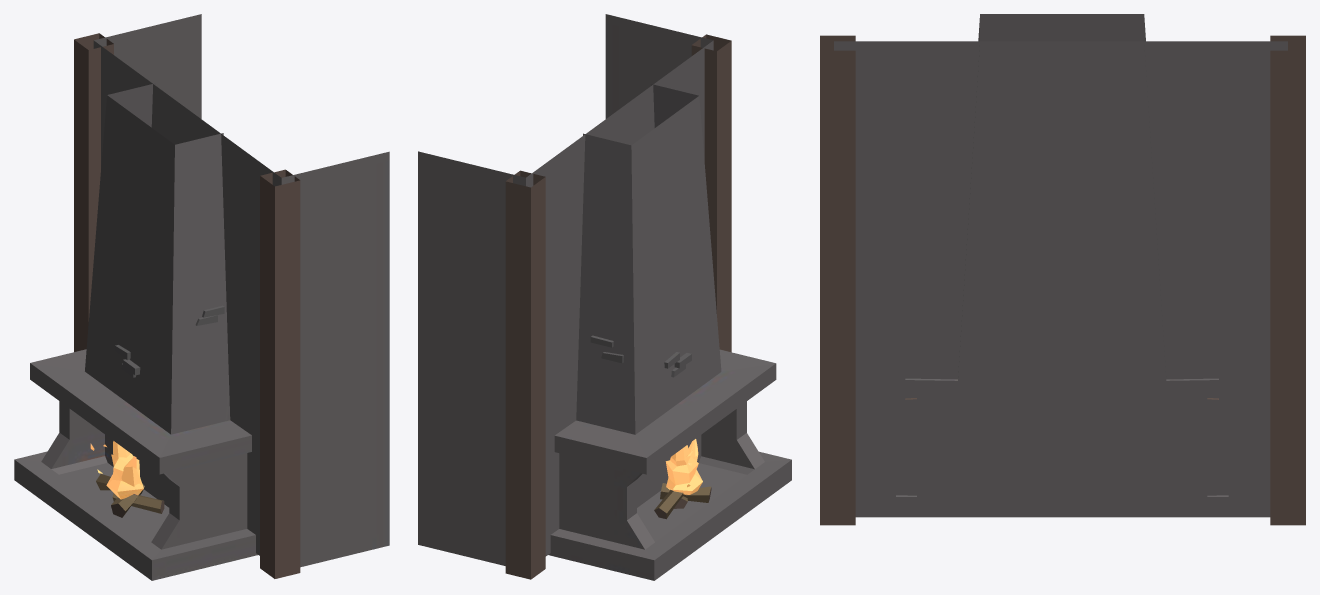
The model's file is fireplace.glb.
3 renders of one model, left to right at view 1: azimuth 30°, elevation 25°; view 2: azimuth 150°, elevation 25°; view 3: azimuth 270°, elevation 25°, orthographic. The views are drawn at different scales.
Parts seen in each view (by area): view 1: fireplace; view 2: fireplace; view 3: fireplace.
Boxes of the visible parts, x1,y1,x2,y2 form: fireplace: (14, 14, 389, 580); fireplace: (418, 14, 791, 580); fireplace: (820, 14, 1305, 525).
Size of the model in its own units: 1.12 by 2 by 1.84.
1 material, 1 textured.
